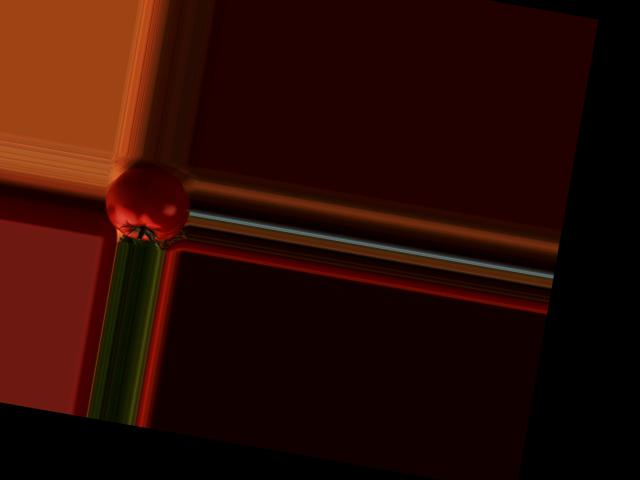tomato: (99, 160, 195, 246)
